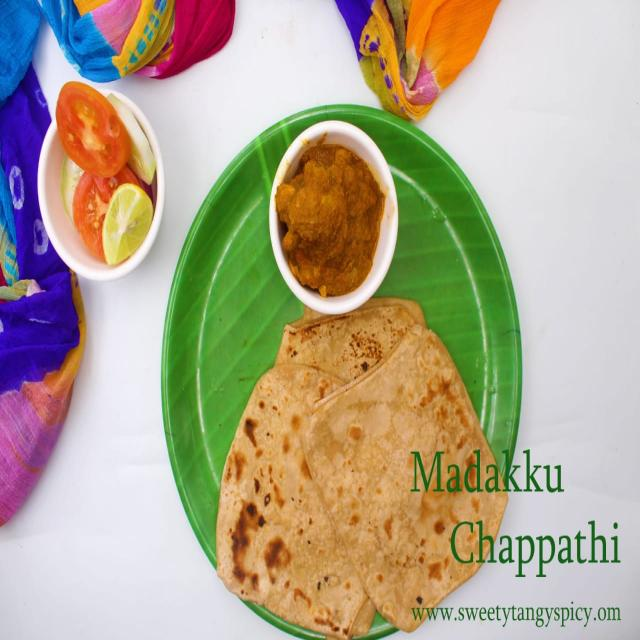chapathi: (296, 320, 514, 640), (206, 349, 366, 640)
